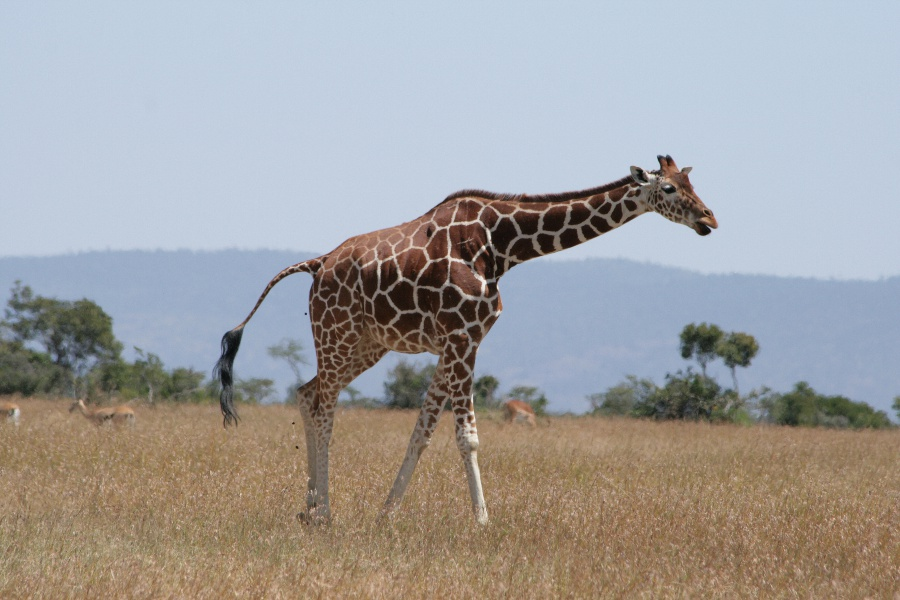giraffe: (271, 145, 724, 532)
